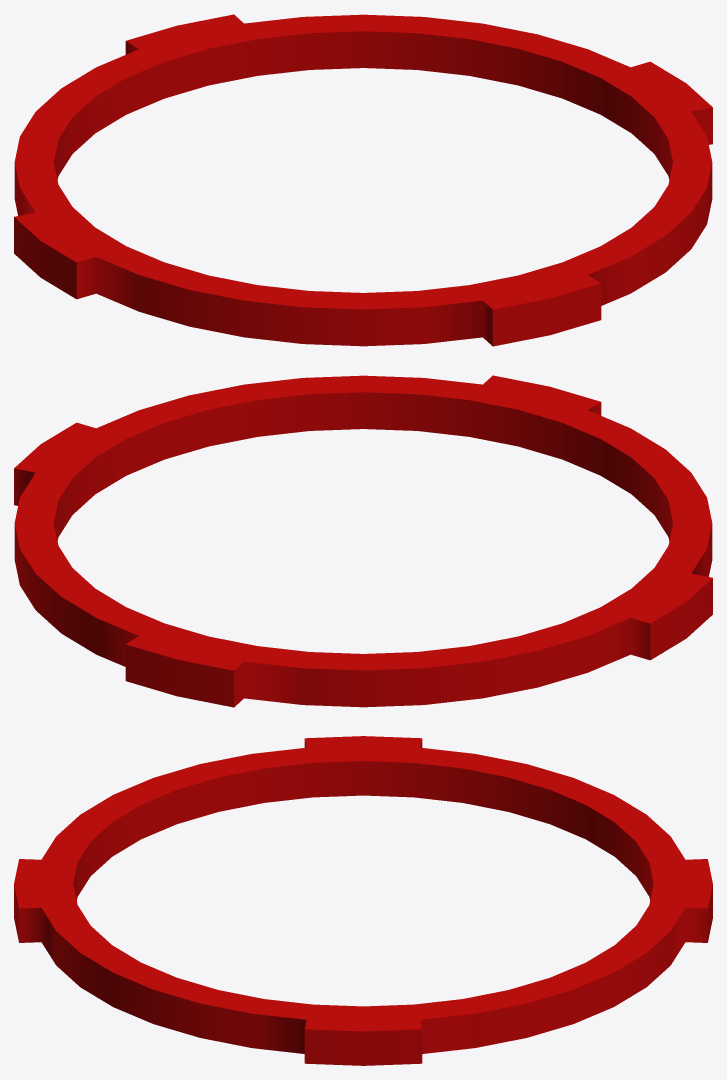
The model's file is Marking Cursor.fbx.
The picture shows the model from 3 angles, top to bottom: view 1: azimuth 30°, elevation 25°; view 2: azimuth 150°, elevation 25°; view 3: azimuth 270°, elevation 25°; orthographic projection. The views are drawn at different scales.
Parts seen in each view (by area): view 1: Röhre; view 2: Röhre; view 3: Röhre.
Part boxes in pixels (left/top/right/bottom): Röhre: left=14, top=14, right=712, bottom=346; Röhre: left=14, top=375, right=712, bottom=707; Röhre: left=14, top=736, right=712, bottom=1065.
Size of the model in its own units: 428 by 23.25 by 428.
